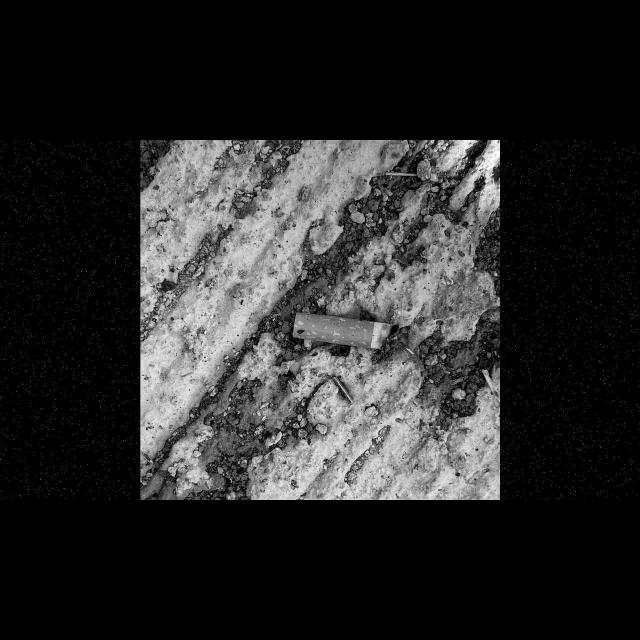cigarette: (291, 310, 401, 359)
